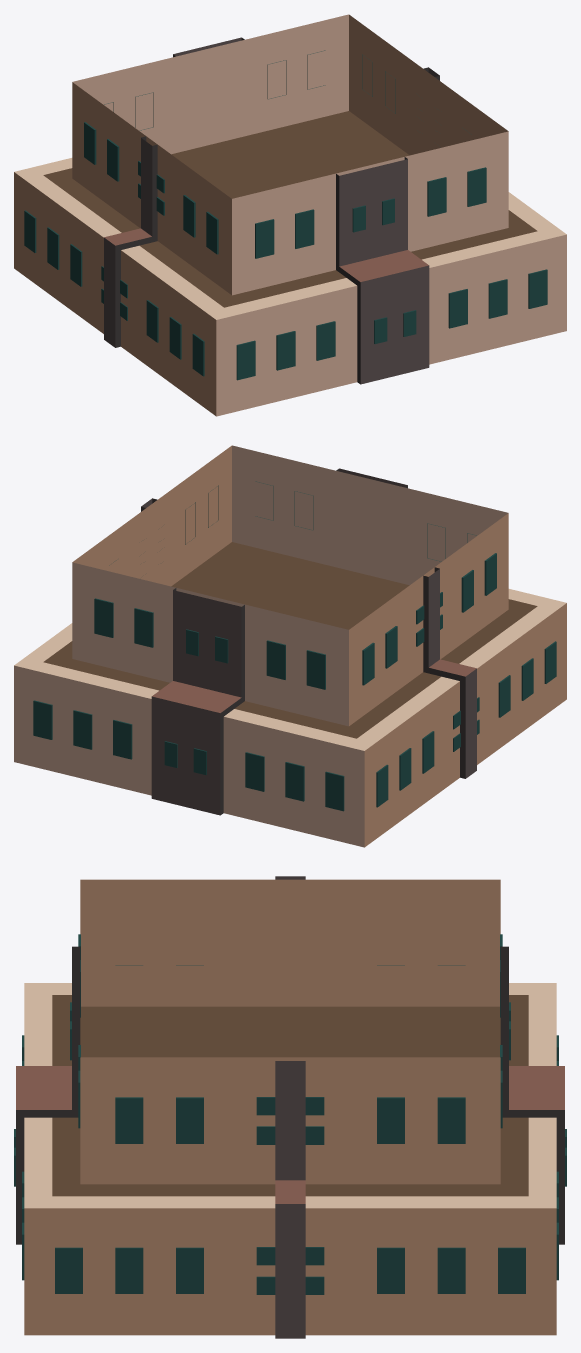
File: TB_CITY_Skysc_Q_Lower_Top_Brown.FBX
3 renders of one model, top to bottom at view 1: azimuth 30°, elevation 25°; view 2: azimuth 150°, elevation 25°; view 3: azimuth 270°, elevation 25°, orthographic. The views are drawn at different scales.
Visible parts, largest first — view 1: TB_CITY_Skysc_Q_Lower_Top_Brown; view 2: TB_CITY_Skysc_Q_Lower_Top_Brown; view 3: TB_CITY_Skysc_Q_Lower_Top_Brown.
Part boxes in pixels (<box>): TB_CITY_Skysc_Q_Lower_Top_Brown: <box>14,14,566,416</box>; TB_CITY_Skysc_Q_Lower_Top_Brown: <box>14,445,566,847</box>; TB_CITY_Skysc_Q_Lower_Top_Brown: <box>14,876,566,1338</box>.
Bounding box in the file's own units: 19.6 × 10 × 19.73.
